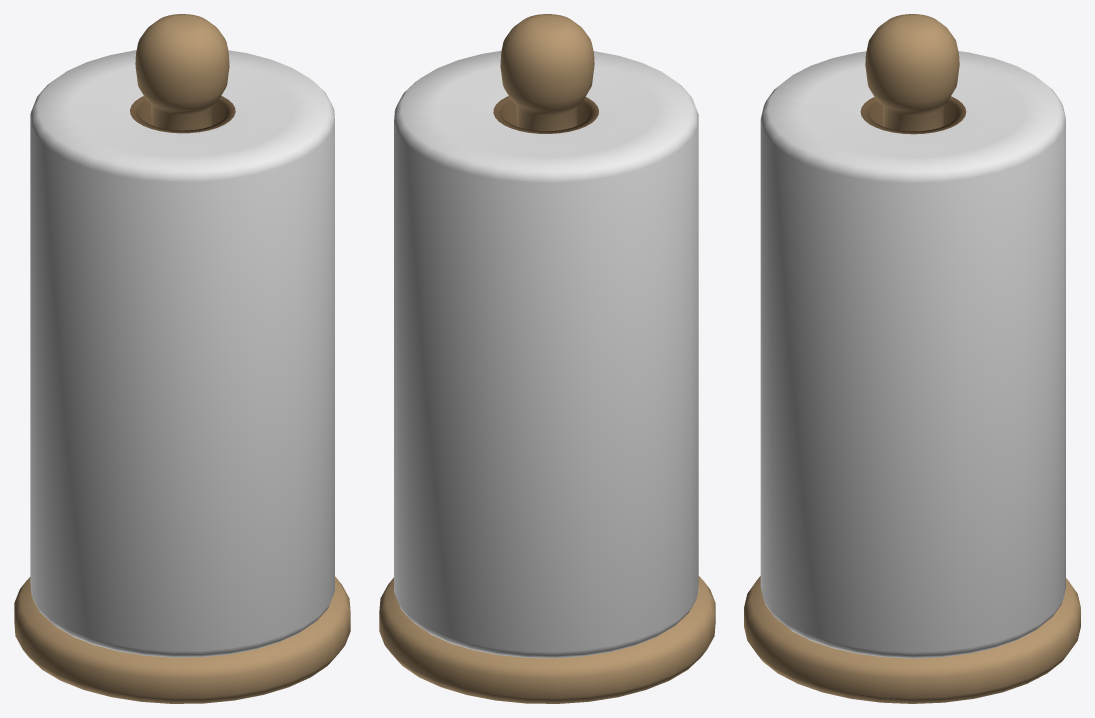
Rendered from PaperTowelWithHolder.fbx.
The picture shows the model from 3 angles, left to right: view 1: azimuth 30°, elevation 25°; view 2: azimuth 150°, elevation 25°; view 3: azimuth 270°, elevation 25°; orthographic projection.
Visible parts, largest first — view 1: PaperTowel_With_Holder; view 2: PaperTowel_With_Holder; view 3: PaperTowel_With_Holder.
Part boxes in pixels (left/top/right/bottom): PaperTowel_With_Holder: left=14, top=14, right=350, bottom=703; PaperTowel_With_Holder: left=379, top=14, right=715, bottom=703; PaperTowel_With_Holder: left=744, top=14, right=1080, bottom=703.
Bounding box in the file's own units: 52.91 × 106 × 52.91.
